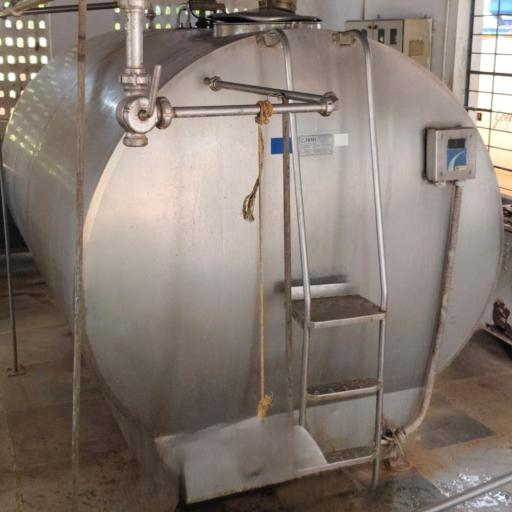silo: (0, 5, 505, 494)
